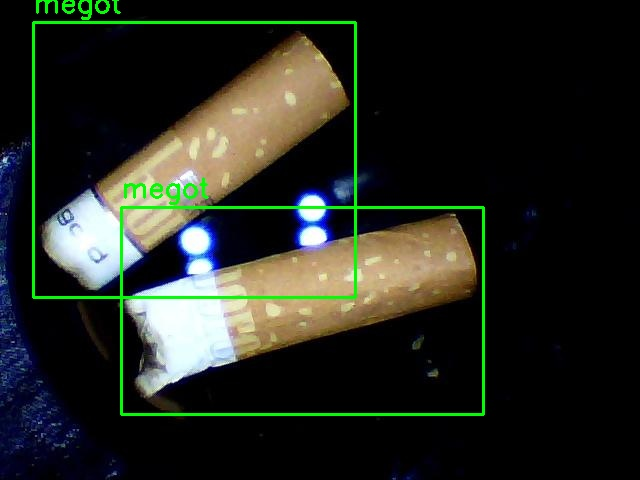megot: (33, 22, 355, 297), (121, 207, 483, 414)
